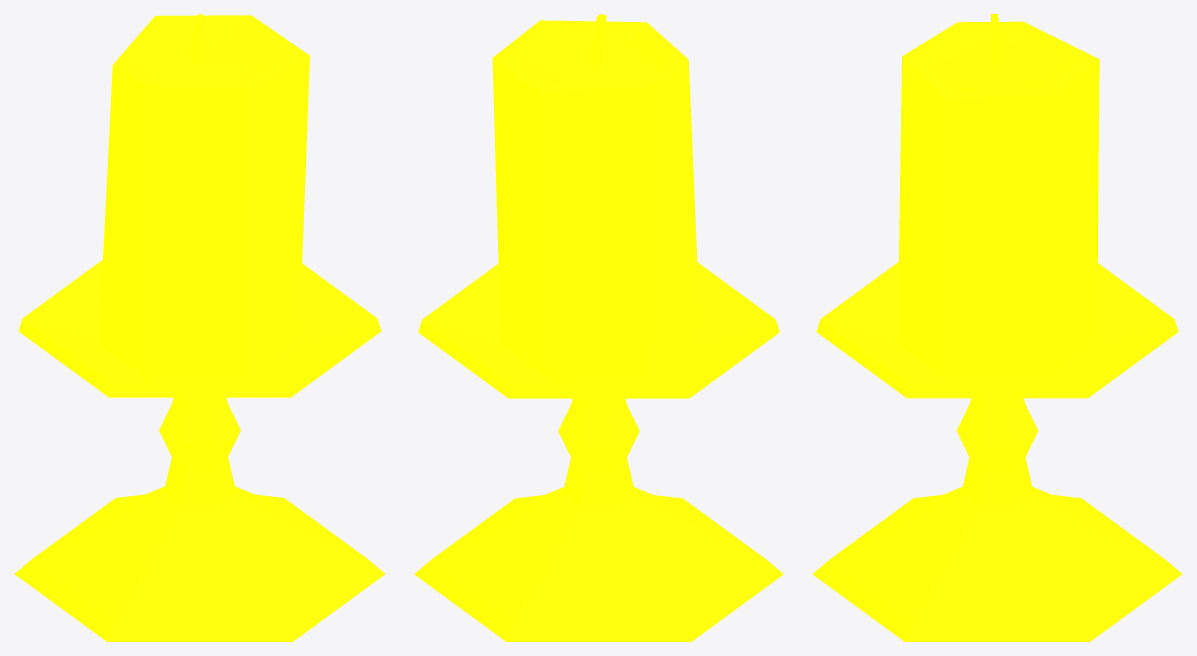
The model's file is candle-holder-short-a-unlit-christmas.glb.
3 views of the same model, side by side, from view 1: azimuth 30°, elevation 25°; view 2: azimuth 150°, elevation 25°; view 3: azimuth 270°, elevation 25° (orthographic).
Visible parts, largest first — view 1: candle_holder_short_a_unlit_christmas; view 2: candle_holder_short_a_unlit_christmas; view 3: candle_holder_short_a_unlit_christmas.
Boxes of the visible parts, x1=… form: candle_holder_short_a_unlit_christmas: x1=15, y1=14, x2=384, y2=641; candle_holder_short_a_unlit_christmas: x1=414, y1=14, x2=783, y2=641; candle_holder_short_a_unlit_christmas: x1=812, y1=14, x2=1182, y2=641.
Size of the model in its own units: 0.1495 by 0.2871 by 0.1727.
1 material, 1 textured.
